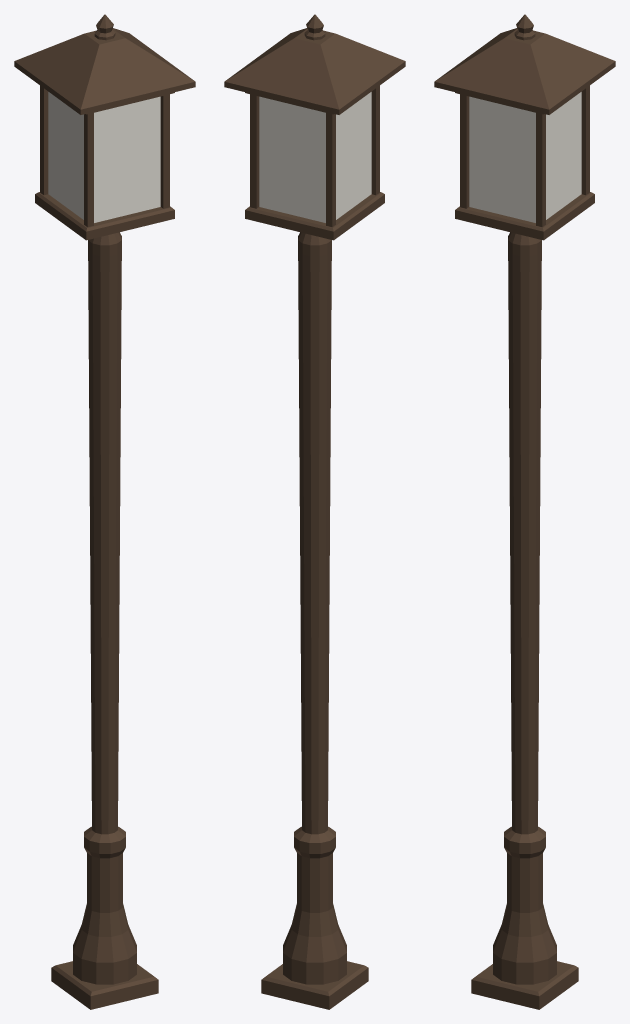
The model's file is SM_Street_LanternLight_Brown_01.gltf.
The picture shows the model from 3 angles, left to right: view 1: azimuth 30°, elevation 25°; view 2: azimuth 150°, elevation 25°; view 3: azimuth 330°, elevation 25°; orthographic projection.
Parts seen in each view (by area): view 1: SM_Street_LanternLight_Brown_01; view 2: SM_Street_LanternLight_Brown_01; view 3: SM_Street_LanternLight_Brown_01.
Part boxes in pixels (x1=…): SM_Street_LanternLight_Brown_01: x1=14, y1=14, x2=195, y2=1009; SM_Street_LanternLight_Brown_01: x1=224, y1=14, x2=405, y2=1009; SM_Street_LanternLight_Brown_01: x1=434, y1=14, x2=615, y2=1009.
Bounding box in the file's own units: 0.44 × 3.56 × 0.44.
1 material, 1 textured.
